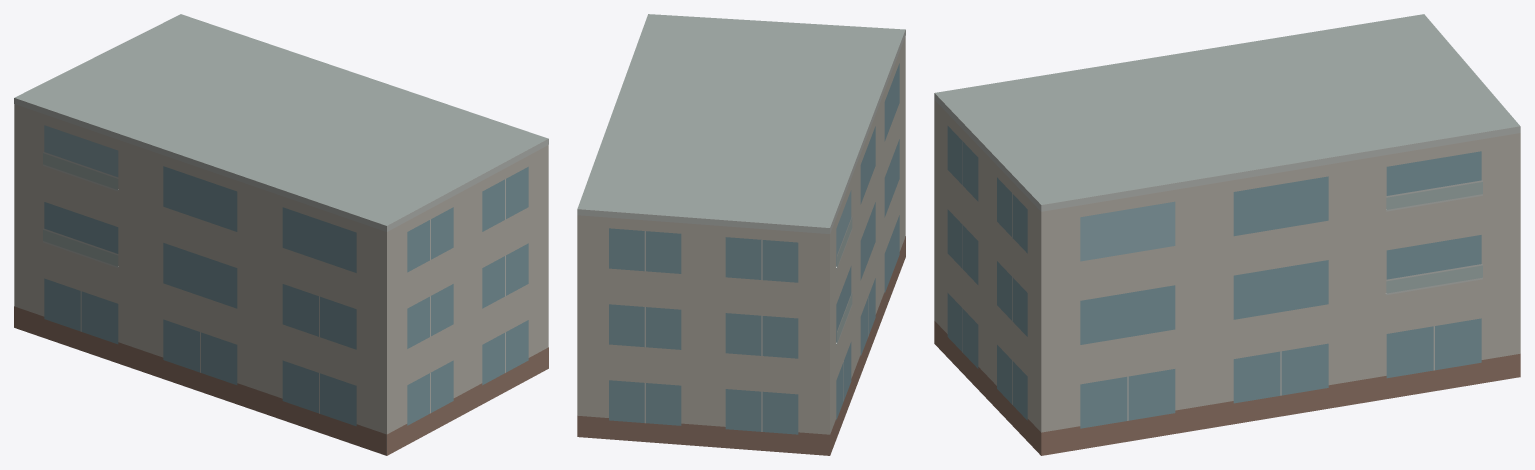
Rendered from survey-upis-32698433.glb.
3 views of the same model, side by side, from view 1: azimuth 30°, elevation 25°; view 2: azimuth 150°, elevation 25°; view 3: azimuth 270°, elevation 25° (orthographic). The views are drawn at different scales.
Visible parts, largest first — view 1: survey-upis-32698433.tmp; view 2: survey-upis-32698433.tmp; view 3: survey-upis-32698433.tmp.
Boxes of the visible parts, bbox=[...] form: survey-upis-32698433.tmp: bbox=[14, 14, 548, 455]; survey-upis-32698433.tmp: bbox=[577, 14, 905, 455]; survey-upis-32698433.tmp: bbox=[934, 14, 1520, 455].
Bounding box in the file's own units: 14.96 × 9.15 × 19.39.
